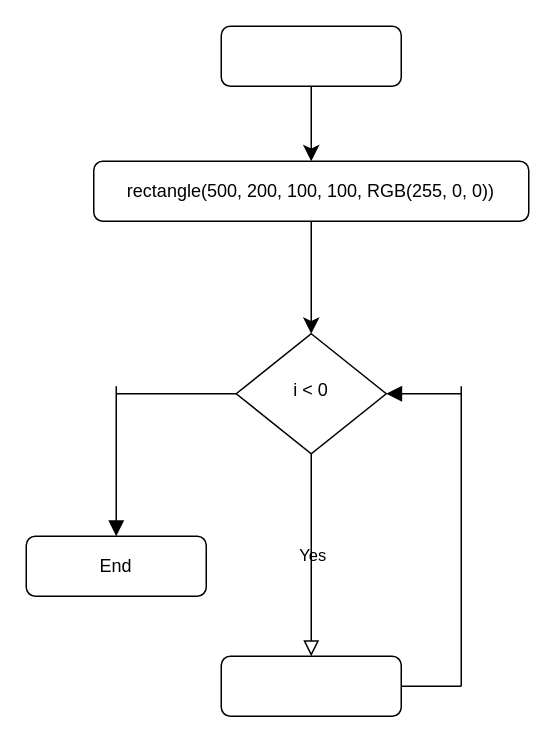
Some shapes in this 555 by 743 pixel diagram are drawn without their labels. Here are the shapes that lost their labels. From the top down, the centre of each, then its label:
At point (310, 55): "Start".
At point (310, 685): "r.fGlide()".
